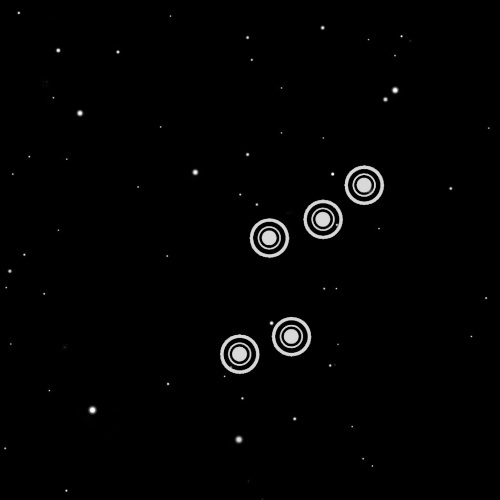lyra: (209, 150, 392, 392)
